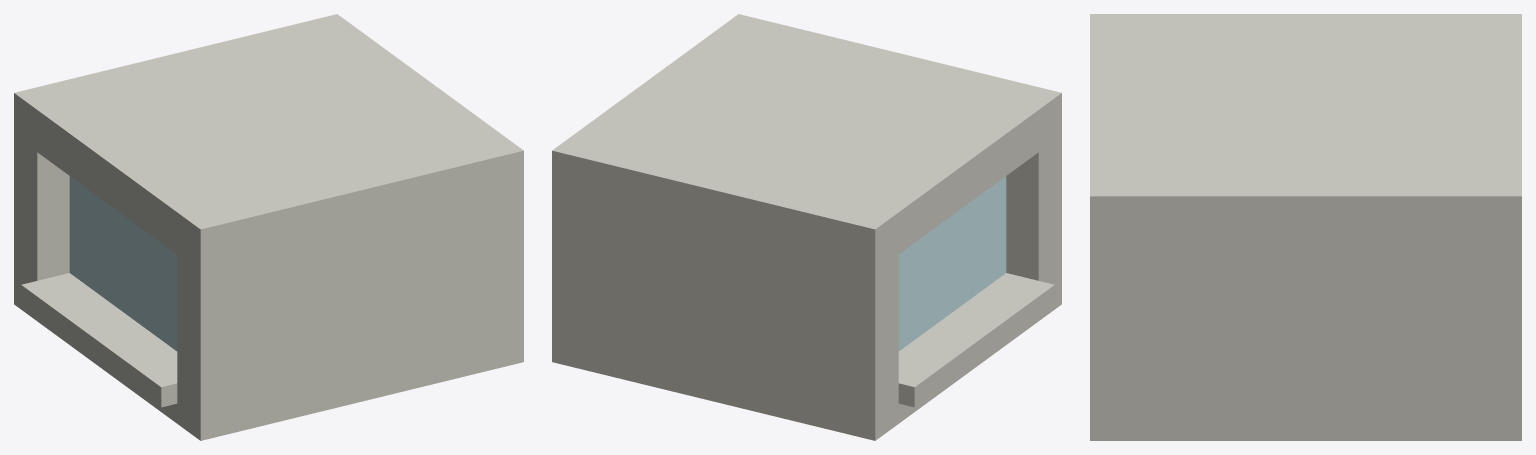
The model's file is modularBuildings_041.gltf.
3 renders of one model, left to right at view 1: azimuth 30°, elevation 25°; view 2: azimuth 150°, elevation 25°; view 3: azimuth 270°, elevation 25°, orthographic. The views are drawn at different scales.
Visible parts, largest first — view 1: Mesh1 Group1 Model; view 2: Mesh1 Group1 Model; view 3: Mesh1 Group1 Model.
Boxes of the visible parts, x1,y1,x2,y2 form: Mesh1 Group1 Model: (14, 14, 523, 440); Mesh1 Group1 Model: (552, 14, 1061, 440); Mesh1 Group1 Model: (1090, 14, 1521, 440).
Bounding box in the file's own units: 1.05 × 0.625 × 1.
